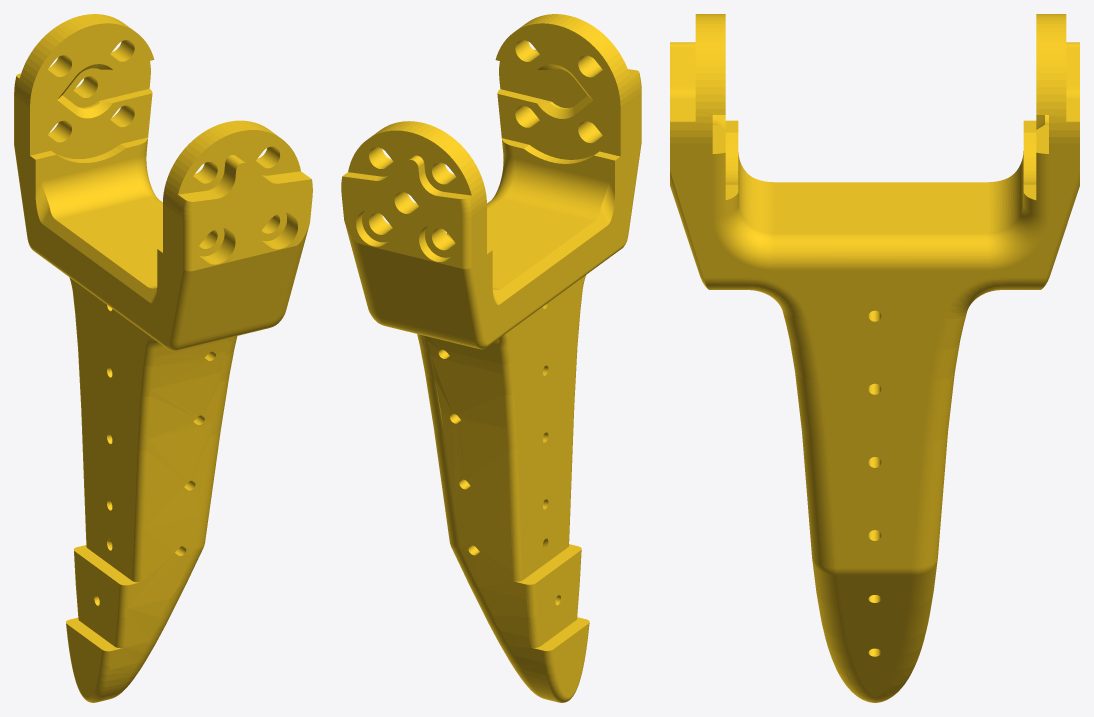
File: moving_jaw_so101_v1.glb
The picture shows the model from 3 angles, left to right: view 1: azimuth 30°, elevation 25°; view 2: azimuth 150°, elevation 25°; view 3: azimuth 270°, elevation 25°; orthographic projection. The views are drawn at different scales.
Parts seen in each view (by area): view 1: moving_jaw_so101_v1; view 2: moving_jaw_so101_v1; view 3: moving_jaw_so101_v1.
Boxes of the visible parts, x1=… form: moving_jaw_so101_v1: x1=14, y1=14, x2=312, y2=702; moving_jaw_so101_v1: x1=341, y1=14, x2=641, y2=702; moving_jaw_so101_v1: x1=670, y1=14, x2=1079, y2=702.
Size of the model in its own units: 0.0223 by 0.092 by 0.048.
